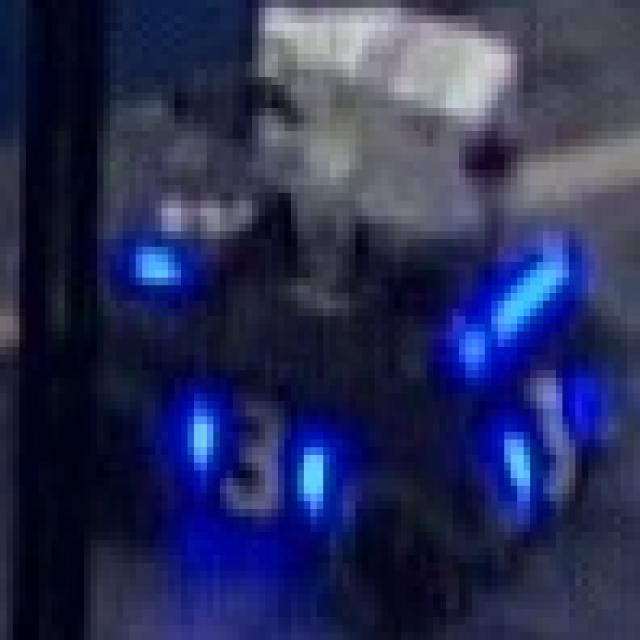B3: (155, 378, 343, 532), (478, 347, 608, 517)
